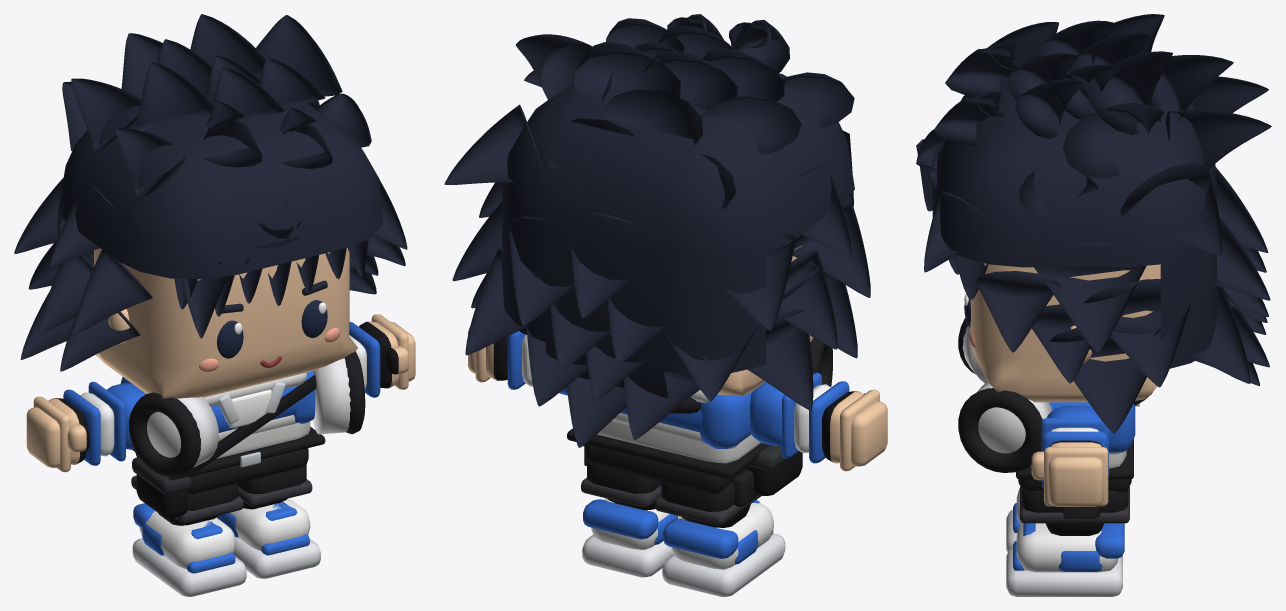
File: kai_chibi_v02.glb
3 views of the same model, side by side, from view 1: azimuth 30°, elevation 25°; view 2: azimuth 150°, elevation 25°; view 3: azimuth 270°, elevation 25° (orthographic). The views are drawn at different scales.
Visible parts, largest first — view 1: Hair_Tufts, Hair_Cap, Head, Shoe_R, Shorts, Shoe_L, Neckwear_Cups, Neckwear_Rims, Arm_R, Hand_R, Hair_Bangs, Hand_L (+9 smaller); view 2: Hair_Tufts, Hair_Cap, Shorts, Shoe_R, Shoe_L, Arm_R, Hand_R, Jacket, Belt, Torso, Bag, Hand_L (+4 smaller); view 3: Hair_Tufts, Hair_Cap, Shoe_L, Head, Hand_L, Neckwear_Rims, Shorts, Neckwear_Cups, Arm_L, Jacket, Hair_Bangs, Belt (+2 smaller).
Part boxes in pixels (<box>): Hair_Tufts: <box>14,14,407,371</box>; Hair_Cap: <box>58,103,382,279</box>; Head: <box>94,247,357,398</box>; Shoe_R: <box>132,503,246,596</box>; Shorts: <box>131,448,312,523</box>; Shoe_L: <box>216,498,320,578</box>; Neckwear_Cups: <box>147,358,350,467</box>; Neckwear_Rims: <box>129,351,365,476</box>; Arm_R: <box>63,381,146,465</box>; Hand_R: <box>26,396,89,472</box>; Hair_Bangs: <box>174,239,368,316</box>; Hand_L: <box>359,314,415,389</box>; Hair_Tufts: <box>444,14,870,447</box>; Hair_Cap: <box>501,73,854,397</box>; Shorts: <box>581,444,761,525</box>; Shoe_R: <box>662,500,785,596</box>; Shoe_L: <box>582,498,683,577</box>; Arm_R: <box>750,372,849,463</box>; Hand_R: <box>822,389,887,471</box>; Jacket: <box>620,390,753,448</box>; Belt: <box>567,428,770,478</box>; Torso: <box>597,421,760,463</box>; Bag: <box>747,445,802,495</box>; Hand_L: <box>468,327,507,382</box>; Hair_Tufts: <box>916,14,1271,433</box>; Hair_Cap: <box>932,77,1217,368</box>; Shoe_L: <box>1006,522,1124,596</box>; Head: <box>970,263,1160,402</box>; Hand_L: <box>1031,440,1108,506</box>; Neckwear_Rims: <box>958,318,1042,472</box>; Shorts: <box>1018,479,1131,523</box>; Neckwear_Cups: <box>962,326,1052,453</box>; Arm_L: <box>1041,406,1108,489</box>; Jacket: <box>1049,402,1139,452</box>; Hair_Bangs: <box>932,164,988,299</box>; Belt: <box>1016,439,1133,479</box>.
Size of the model in its own units: 0.5873 by 0.7696 by 0.4716.
